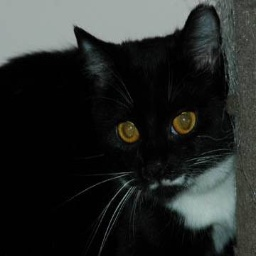cat: (0, 4, 238, 256)
